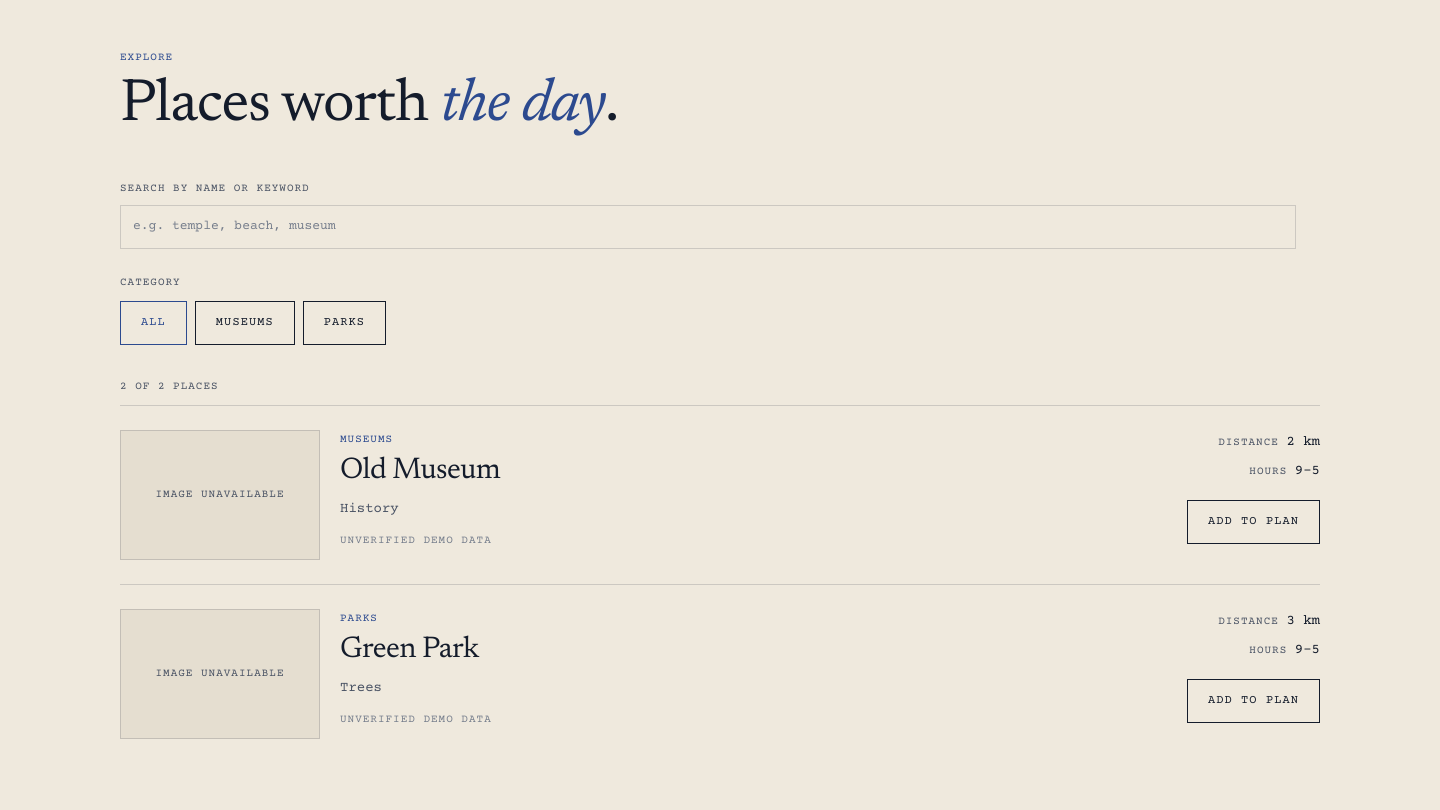
Test: Explore › lists, searches, filters and shows the empty state
Check: the link "Old Museum" is shown, box [340, 456, 500, 486]
Check: the link "Green Park" is shown, box [340, 635, 478, 665]
In the search field labelled "Search by name or keyword": (708, 227) [120, 205, 1296, 249], type "museum"
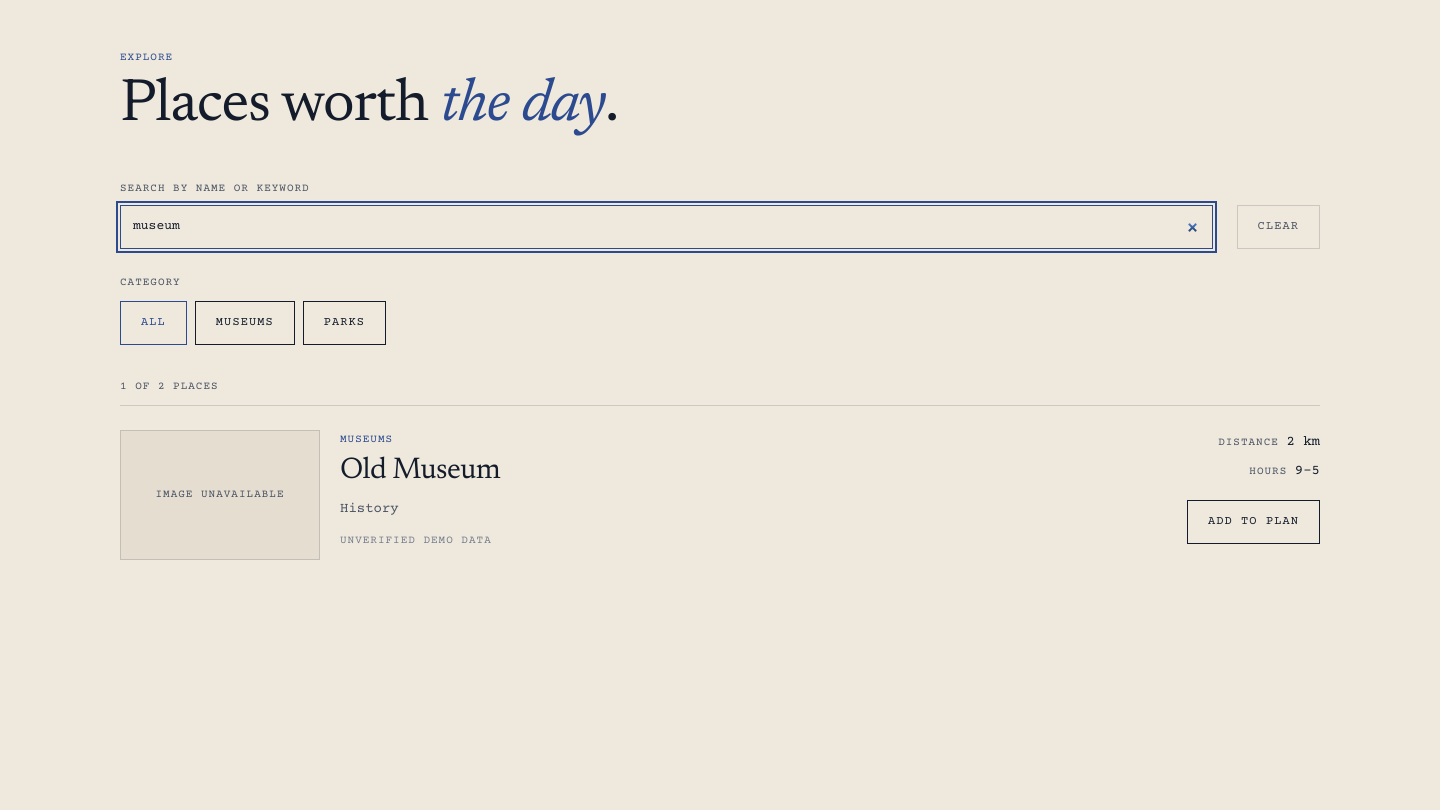
Check: the link "Green Park" is gone
Clear the search field labelled "Search by name or keyword": (666, 227) [120, 205, 1213, 249]
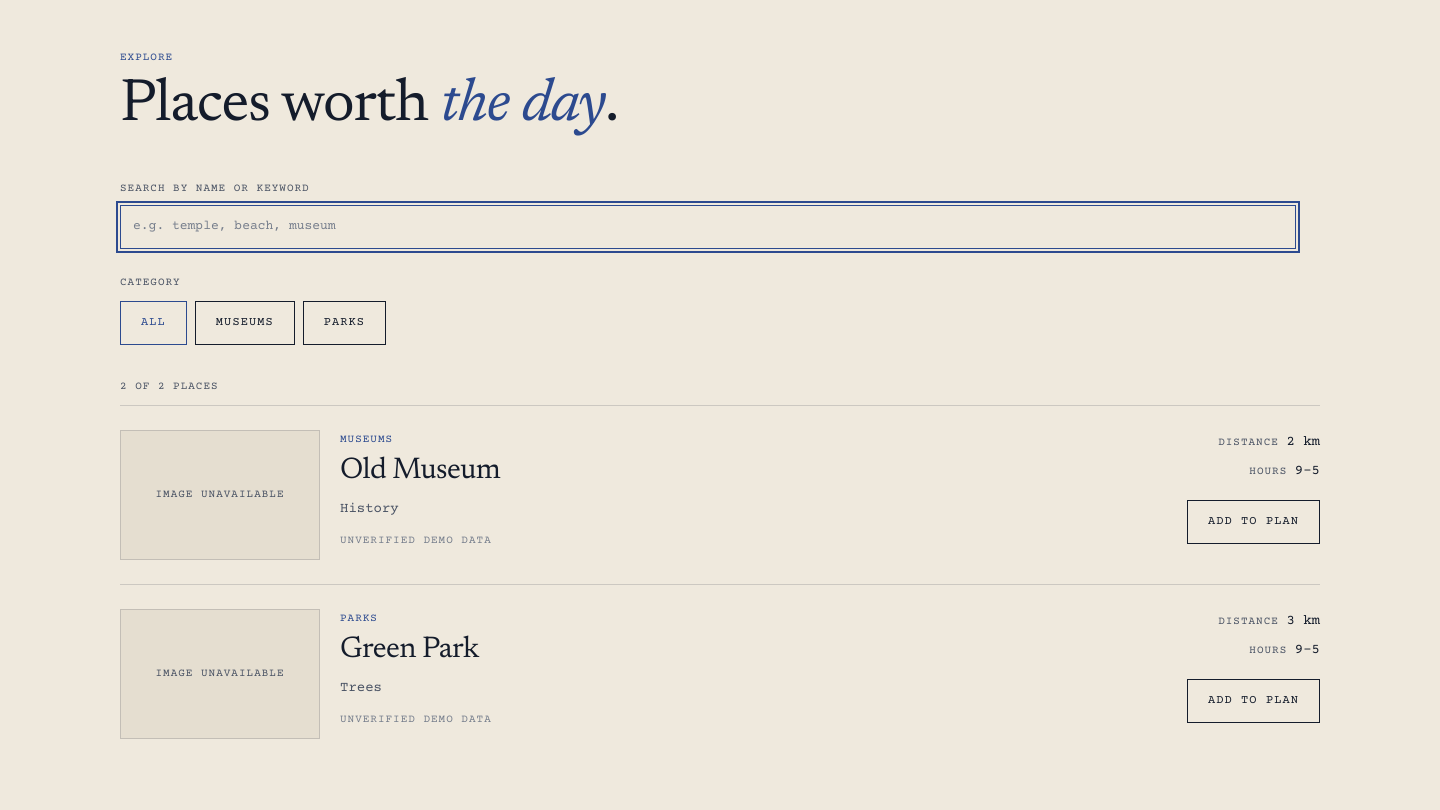
Click the button "Parks": (344, 323) [303, 301, 386, 345]
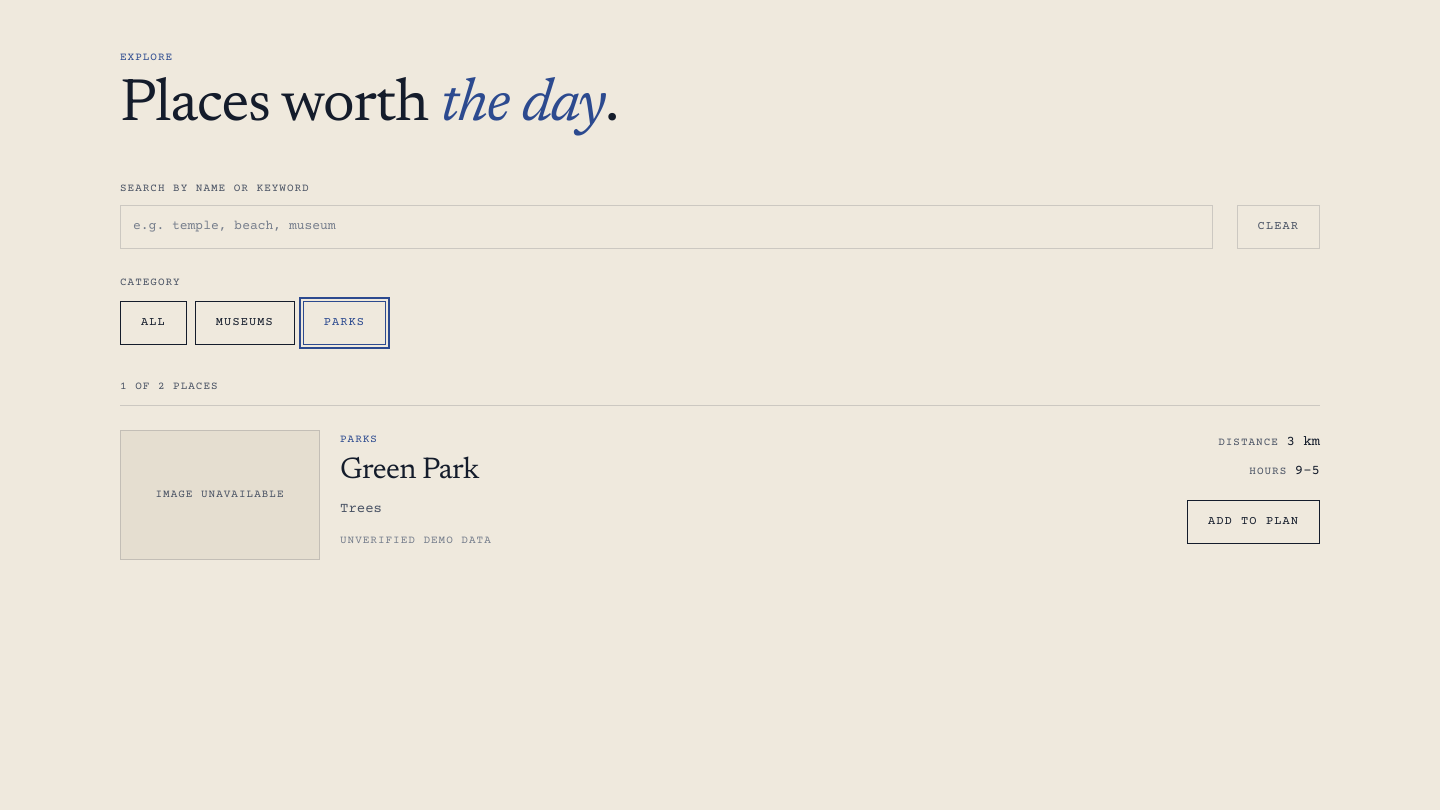
Check: the link "Old Museum" is gone
In the search field labelled "Search by name or keyword": (666, 227) [120, 205, 1213, 249], type "zzzz"
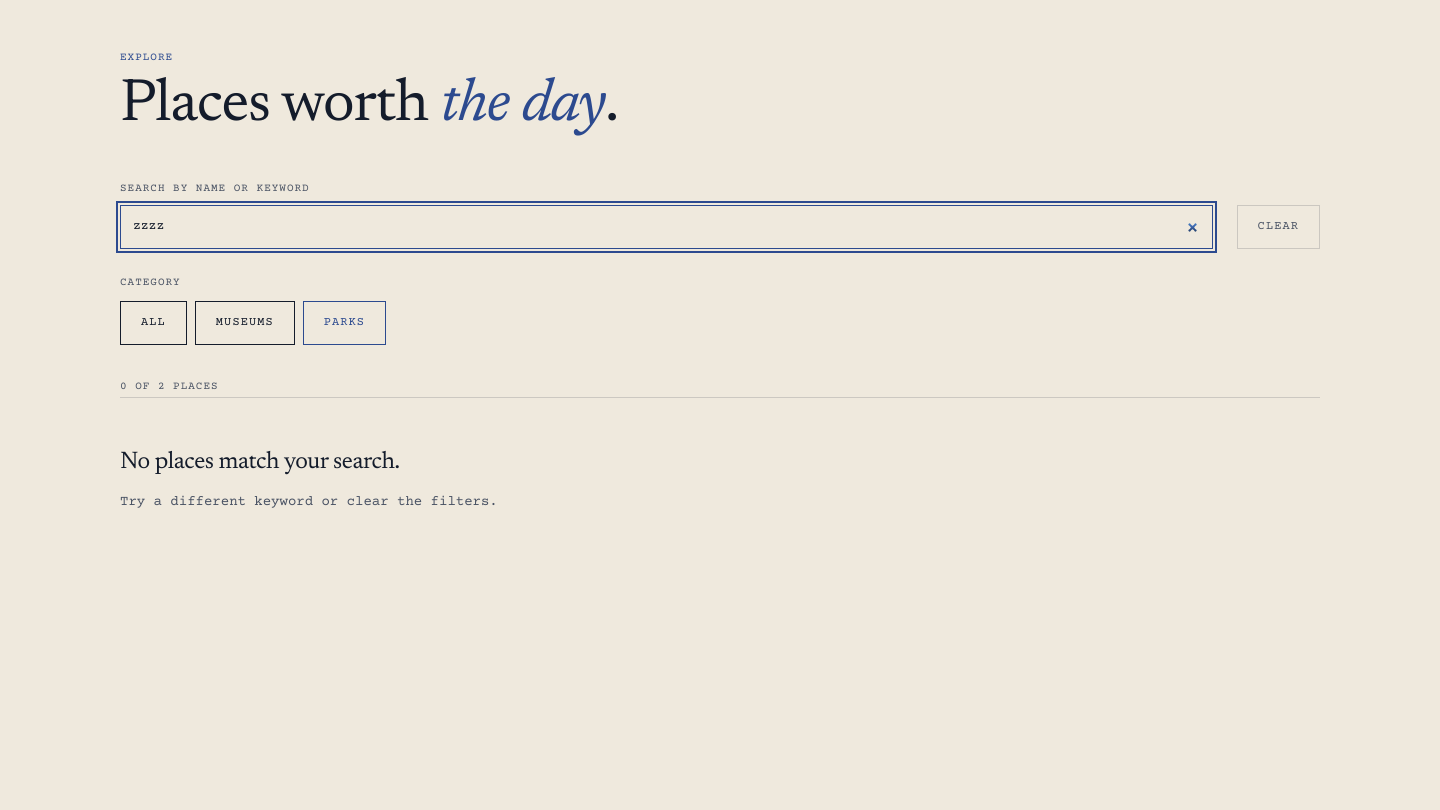
Check: the heading "No places match your search." is shown, box [120, 450, 400, 474]
